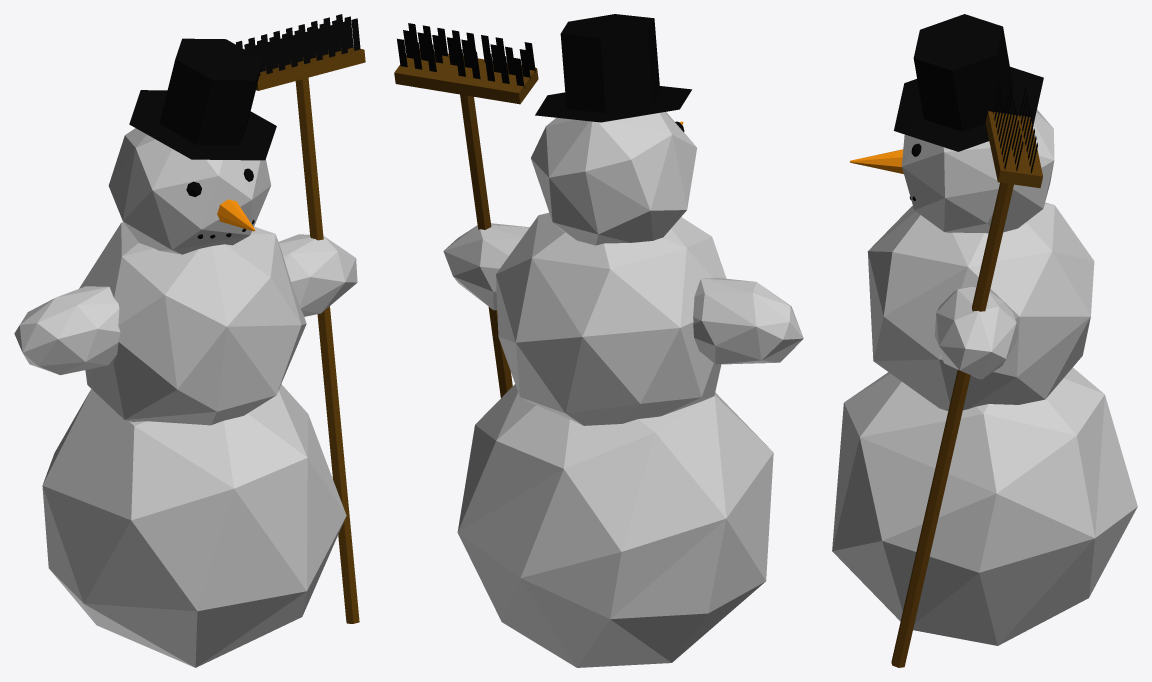
The model's file is snowman.fbx.
3 renders of one model, left to right at view 1: azimuth 30°, elevation 25°; view 2: azimuth 150°, elevation 25°; view 3: azimuth 270°, elevation 25°, orthographic. The views are drawn at different scales.
Parts seen in each view (by area): view 1: Sphere, Sphere_1, head, Cylinder_1, Sphere_4, Cylinder_2, Sphere_3, Plane, Cube, Plane_1, Cylinder, Plane_2; view 2: Sphere, Sphere_1, head, Cylinder_1, Sphere_4, Sphere_3, Cube, Cylinder_2, Plane_2, Plane_1, Plane; view 3: Sphere, Sphere_1, Cylinder_1, head, Cylinder_2, Sphere_3, Cube, Cylinder, Plane_2, Plane, Plane_1.
Boxes of the visible parts, x1,y1,x2,y2 form: Sphere: (42,384,346,667); Sphere_1: (79,222,306,425); head: (108,128,271,254); Cylinder_1: (129,38,276,160); Sphere_4: (14,286,120,375); Cylinder_2: (295,77,359,623); Sphere_3: (278,234,357,316); Plane: (251,18,360,75); Cube: (256,46,365,90); Plane_1: (244,16,353,71); Cylinder: (217,199,255,231); Plane_2: (236,14,342,65); Sphere: (457,384,773,667); Sphere_1: (496,212,726,425); head: (531,112,696,245); Cylinder_1: (535,14,691,122); Sphere_4: (693,277,803,364); Sphere_3: (443,223,529,310); Cube: (394,49,538,104); Cylinder_2: (460,94,512,397); Plane_2: (397,38,524,88); Plane_1: (403,30,530,79); Plane: (408,23,535,72); Sphere: (832,367,1137,645); Sphere_1: (867,202,1094,410); Cylinder_1: (894,14,1043,151); head: (901,109,1054,233); Cylinder_2: (891,182,1013,667); Sphere_3: (935,287,1018,379); Cube: (985,111,1042,188); Cylinder: (849,149,903,173); Plane_2: (1019,87,1037,173); Plane: (992,83,1011,169); Plane_1: (1005,85,1023,171).
Size of the model in its own units: 271 by 427 by 199.
